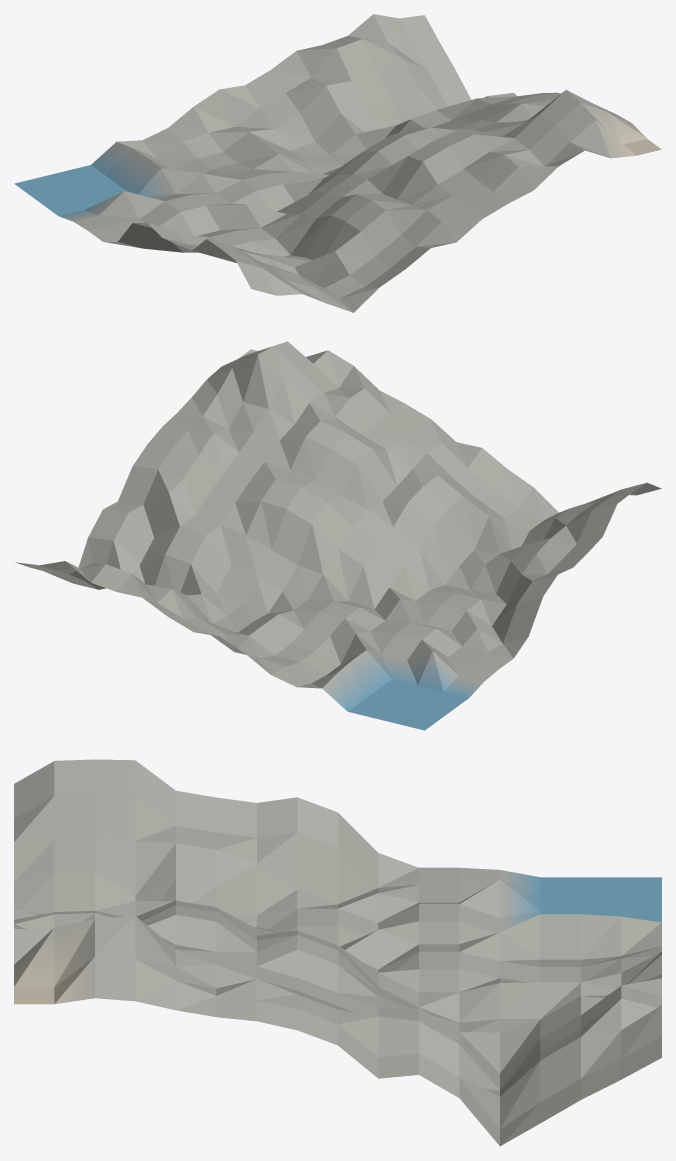
3 views of the same model, one above another, from view 1: azimuth 30°, elevation 25°; view 2: azimuth 150°, elevation 25°; view 3: azimuth 270°, elevation 25° (orthographic). The views are drawn at different scales.
Bounding box in the file's own units: 32 × 10.96 × 32.
